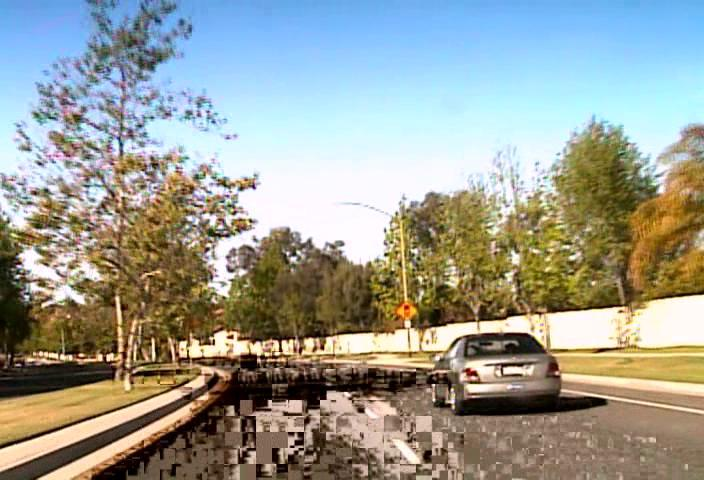signalAhead: (394, 301, 418, 321)
